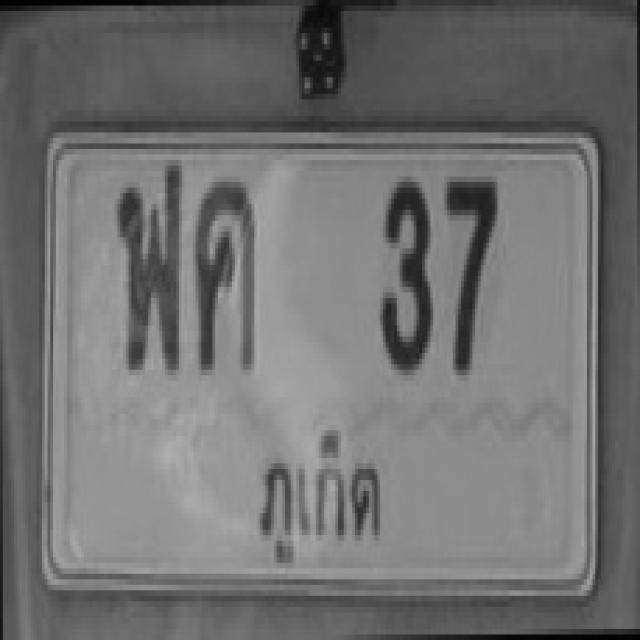13KhorKhwai: (192, 160, 262, 388)
3: (368, 164, 443, 413)
40ForFun: (112, 148, 190, 392)
7: (438, 143, 508, 411)
Phuket: (241, 404, 405, 580)
